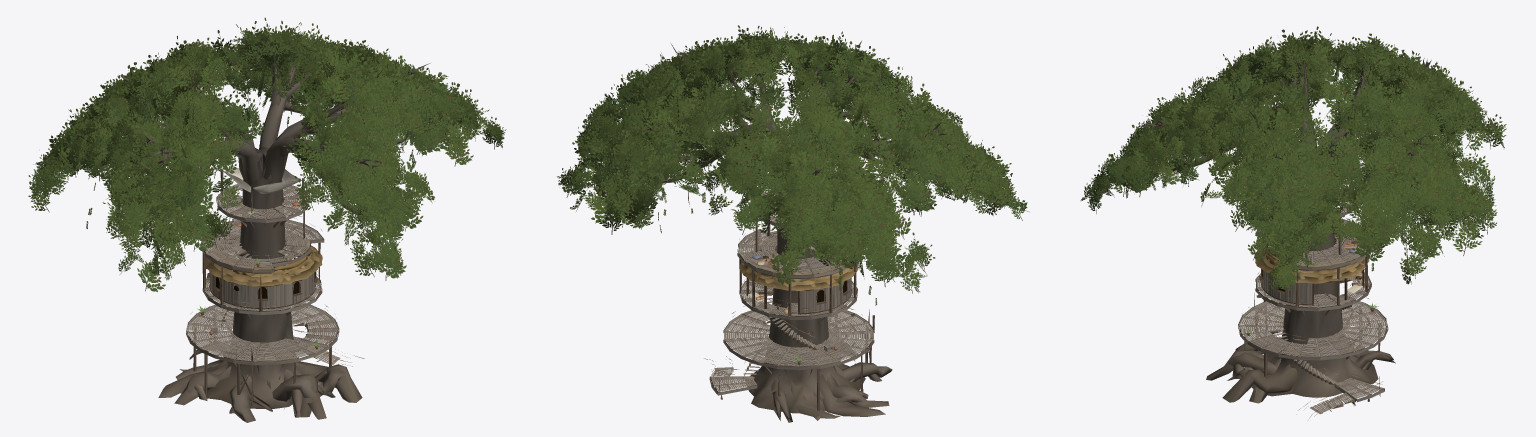
Rendered from canopy.glb.
3 views of the same model, side by side, from view 1: azimuth 30°, elevation 25°; view 2: azimuth 150°, elevation 25°; view 3: azimuth 270°, elevation 25° (orthographic). The views are drawn at different scales.
Visible parts, largest first — view 1: Native Canopy leaves, Native Canopy structure; view 2: Native Canopy leaves, Native Canopy structure; view 3: Native Canopy leaves, Native Canopy structure.
Part boxes in pixels (x1,y1,x2,y2): Native Canopy leaves: [28, 17, 506, 379]; Native Canopy structure: [102, 37, 430, 422]; Native Canopy leaves: [557, 25, 1028, 305]; Native Canopy structure: [637, 30, 952, 422]; Native Canopy leaves: [1080, 26, 1506, 358]; Native Canopy structure: [1139, 37, 1447, 419].
Bounding box in the file's own units: 12.22 × 9.19 × 11.28.
2 materials, 1 textured.
